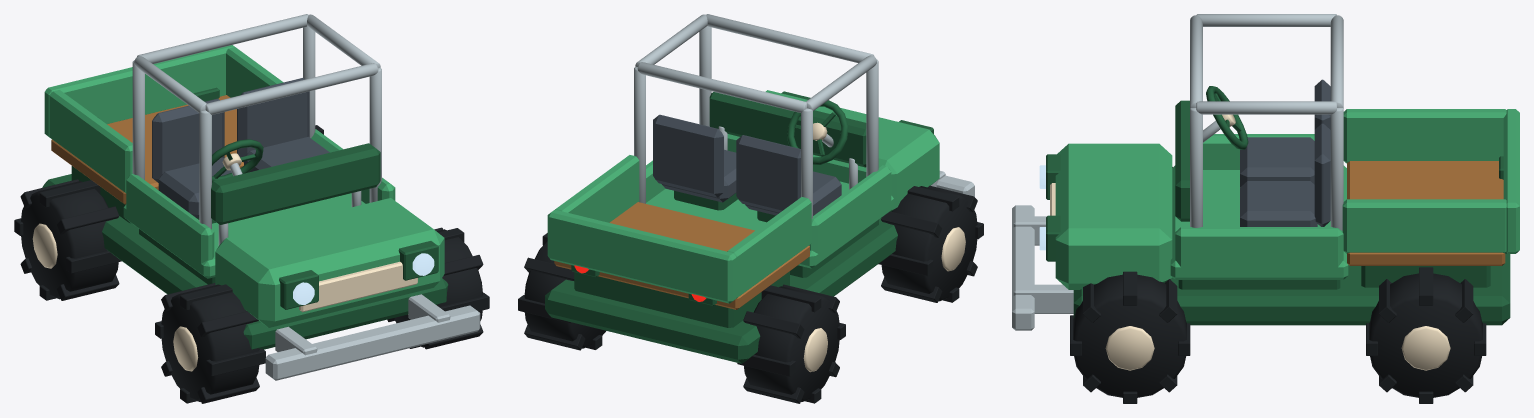
Rendered from FTF_Vehicle_RanchUTV_Green_2_7m.glb.
3 renders of one model, left to right at view 1: azimuth 30°, elevation 25°; view 2: azimuth 150°, elevation 25°; view 3: azimuth 270°, elevation 25°, orthographic. The views are drawn at different scales.
Visible parts, largest first — view 1: FTF_Vehicle_RanchUTV_Green_2_7m_Static, Wheel_FL_Mesh, Wheel_RL_Mesh, Wheel_FR_Mesh, SteeringWheel_Mesh; view 2: FTF_Vehicle_RanchUTV_Green_2_7m_Static, Wheel_RL_Mesh, Wheel_FL_Mesh, Wheel_RR_Mesh, SteeringWheel_Mesh; view 3: FTF_Vehicle_RanchUTV_Green_2_7m_Static, Wheel_RR_Mesh, Wheel_FR_Mesh, SteeringWheel_Mesh.
Part boxes in pixels (x1=…): FTF_Vehicle_RanchUTV_Green_2_7m_Static: x1=42, y1=14, x2=480, y2=380; Wheel_FL_Mesh: x1=155, y1=283, x2=265, y2=403; Wheel_RL_Mesh: x1=14, y1=179, x2=121, y2=300; Wheel_FR_Mesh: x1=387, y1=227, x2=489, y2=349; SteeringWheel_Mesh: x1=212, y1=139, x2=263, y2=181; FTF_Vehicle_RanchUTV_Green_2_7m_Static: x1=545, y1=14, x2=974, y2=363; Wheel_RL_Mesh: x1=737, y1=284, x2=845, y2=403; Wheel_FL_Mesh: x1=878, y1=185, x2=983, y2=302; Wheel_RR_Mesh: x1=518, y1=233, x2=605, y2=350; SteeringWheel_Mesh: x1=787, y1=100, x2=848, y2=164; FTF_Vehicle_RanchUTV_Green_2_7m_Static: x1=1012, y1=14, x2=1519, y2=330; Wheel_RR_Mesh: x1=1366, y1=267, x2=1486, y2=403; Wheel_FR_Mesh: x1=1070, y1=271, x2=1190, y2=403; SteeringWheel_Mesh: x1=1206, y1=86, x2=1248, y2=149.
Bounding box in the file's own units: 2.09 × 1.87 × 3.14.
